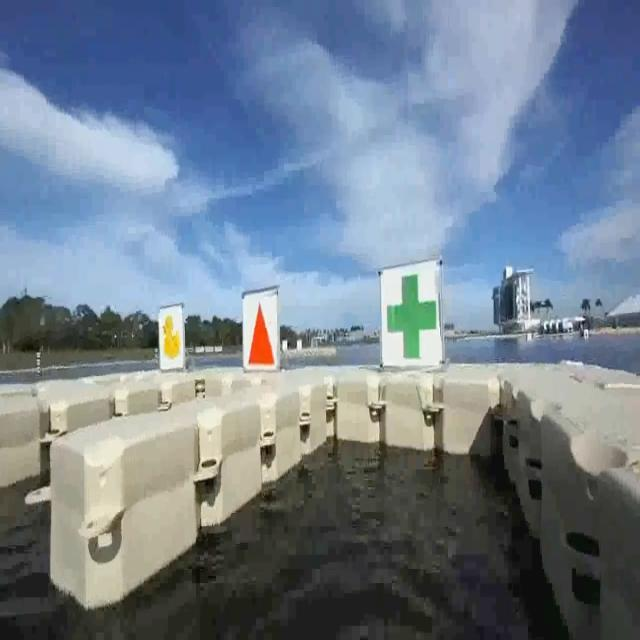blue-cross: (381, 266, 438, 366)
red-dot: (245, 293, 276, 370)
yellow-duck: (159, 310, 183, 366)
